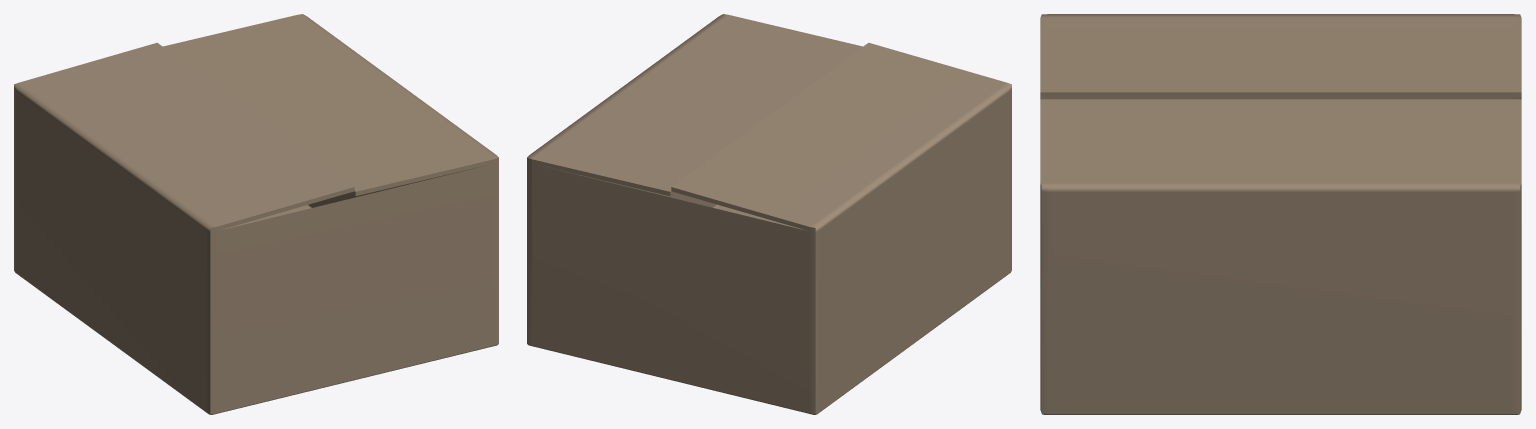
3 views of the same model, side by side, from view 1: azimuth 30°, elevation 25°; view 2: azimuth 150°, elevation 25°; view 3: azimuth 270°, elevation 25° (orthographic). The views are drawn at different scales.
Parts seen in each view (by area): view 1: BOX08; view 2: BOX08; view 3: BOX08.
Boxes of the visible parts, x1,y1,x2,y2 form: BOX08: (14,14,498,414); BOX08: (527,14,1011,414); BOX08: (1040,14,1521,414).
Bounding box in the file's own units: 0.4425 × 0.283 × 0.5206.
